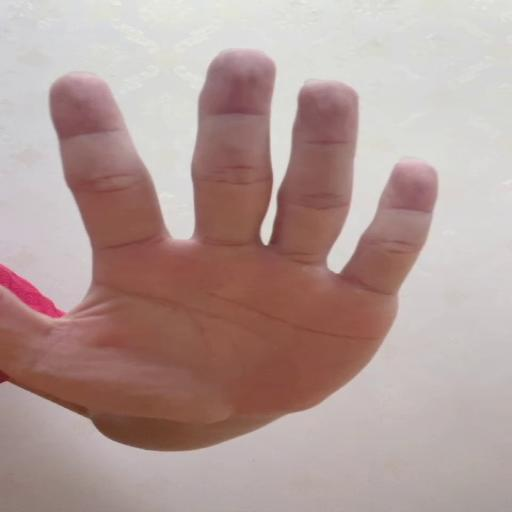open_palm: (2, 45, 442, 423)
